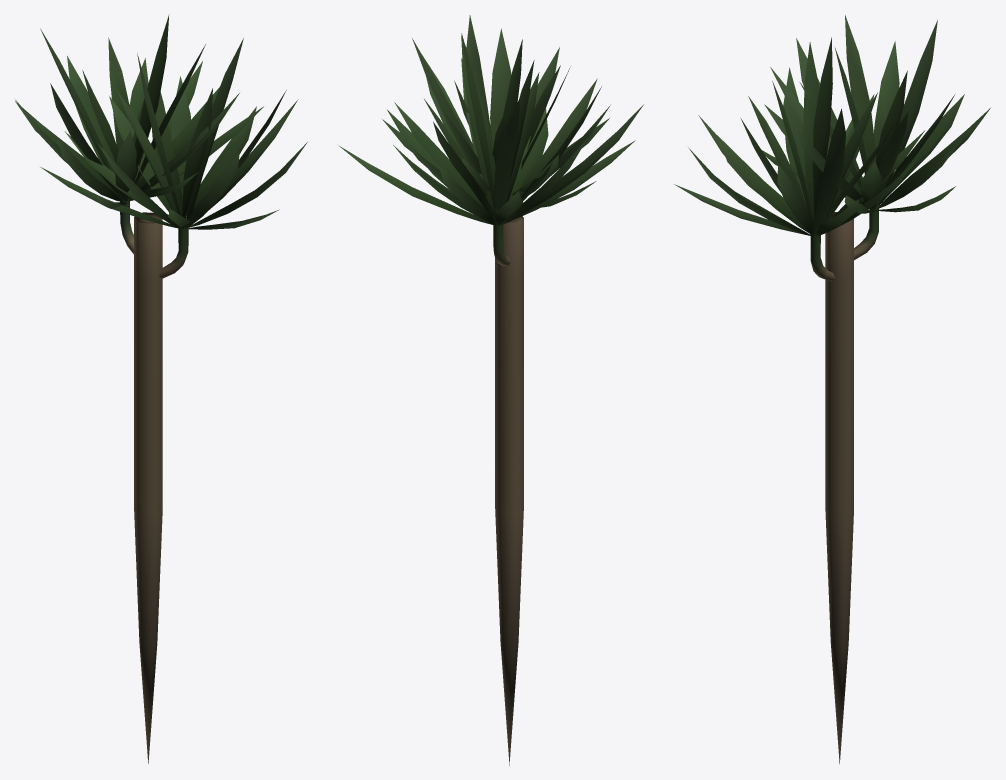
Rendered from plants-trees-palms-yucca-tree_v1.fbx.
The picture shows the model from 3 angles, left to right: view 1: azimuth 30°, elevation 25°; view 2: azimuth 150°, elevation 25°; view 3: azimuth 270°, elevation 25°; orthographic projection.
Parts seen in each view (by area): view 1: Yucca Tree_v1; view 2: Yucca Tree_v1; view 3: Yucca Tree_v1.
Part boxes in pixels (x1,y1,x2,y2): Yucca Tree_v1: [15, 14, 307, 763]; Yucca Tree_v1: [338, 15, 643, 765]; Yucca Tree_v1: [674, 15, 990, 764].
Bounding box in the file's own units: 0.9969 × 3 × 1.18.
